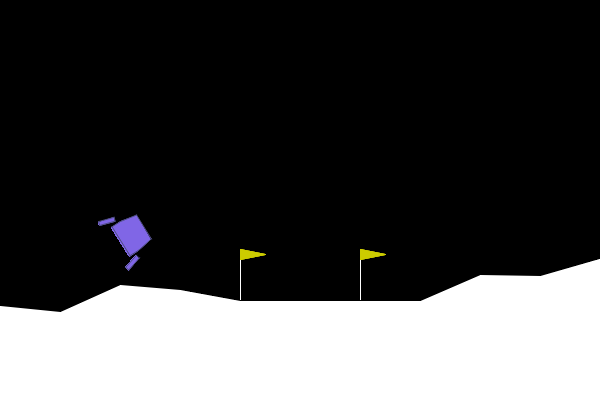lander: (95, 201, 161, 273)
